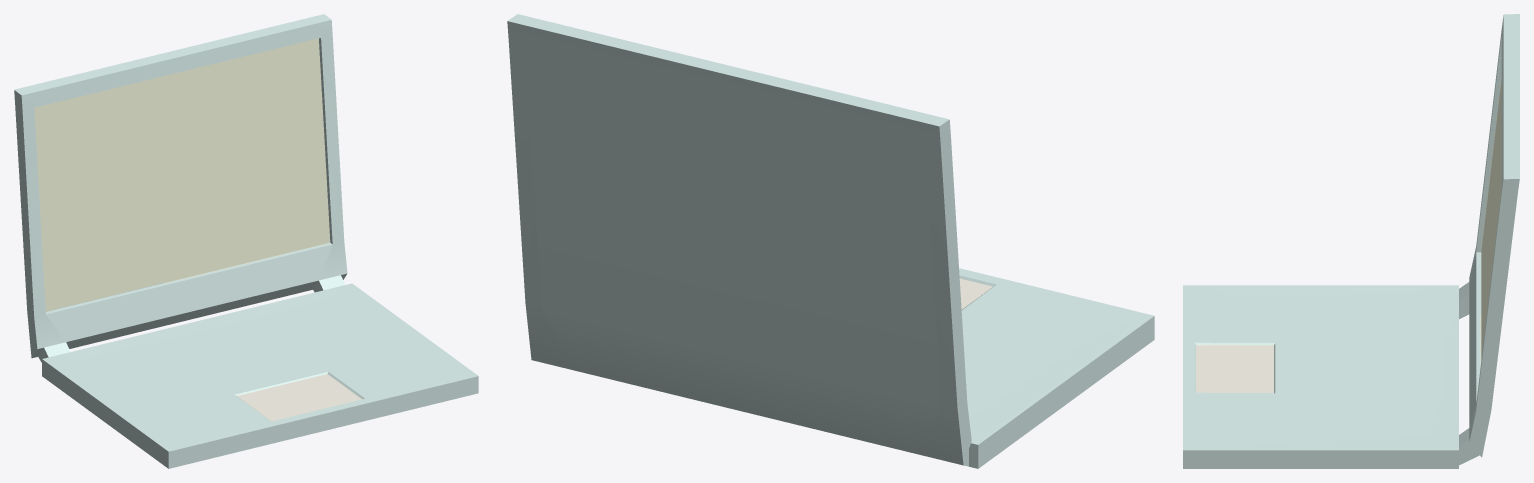
Rendered from k_laptop.fbx.
3 views of the same model, side by side, from view 1: azimuth 30°, elevation 25°; view 2: azimuth 150°, elevation 25°; view 3: azimuth 270°, elevation 25° (orthographic). The views are drawn at different scales.
Visible parts, largest first — view 1: laptop_m; view 2: laptop_m; view 3: laptop_m.
Part boxes in pixels (box(x1,y1,x2,y2)): laptop_m: box(14, 14, 478, 468); laptop_m: box(507, 14, 1154, 468); laptop_m: box(1183, 14, 1519, 468).
Size of the model in its own units: 62.88 by 51.58 by 54.26.
